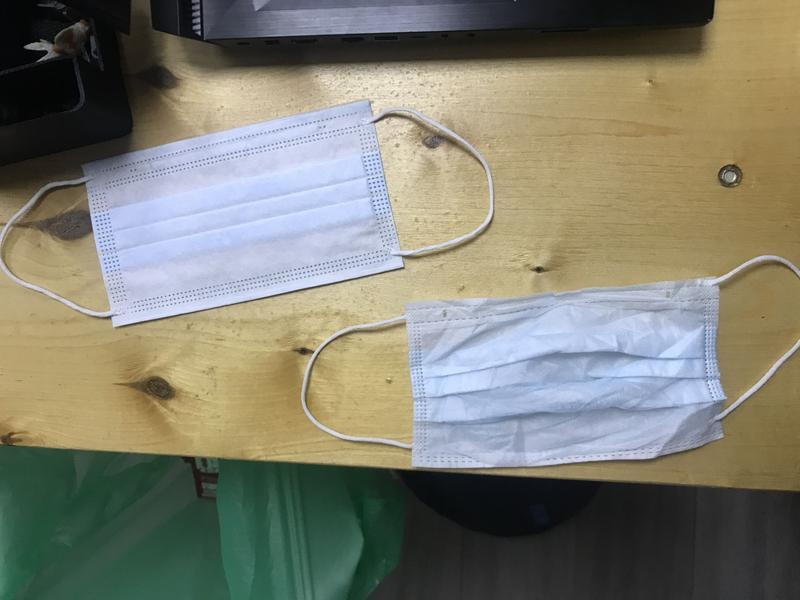medical_mask: (1, 98, 496, 332), (302, 256, 800, 470)
